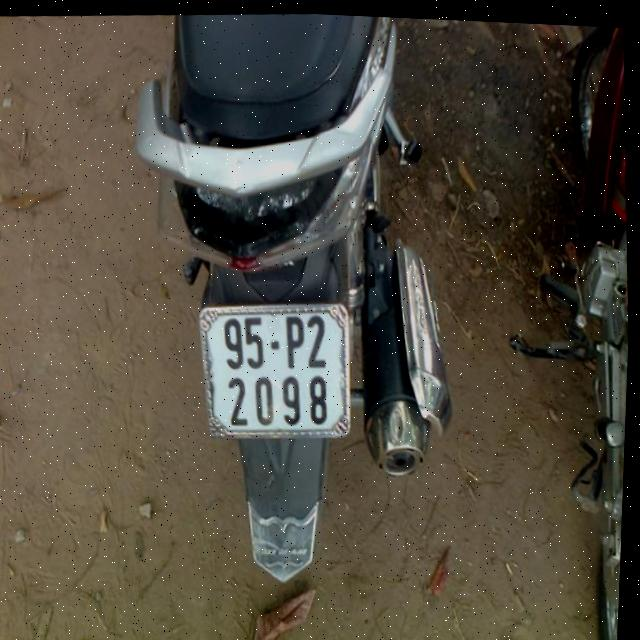motorcycle: (107, 6, 480, 608), (499, 23, 640, 640)
plate: (191, 289, 362, 449)
